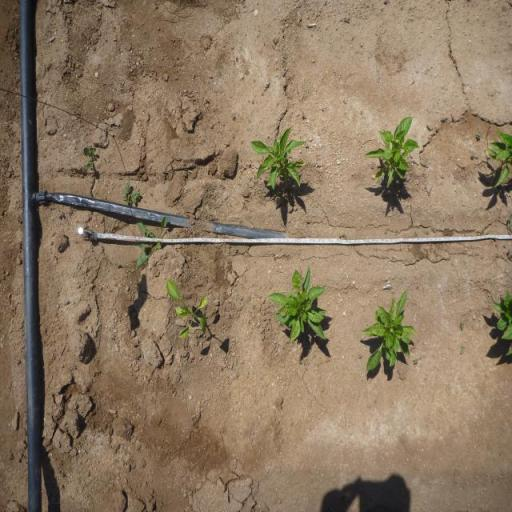plant: (265, 262, 329, 344), (360, 289, 420, 374), (361, 114, 421, 188), (250, 124, 306, 190), (166, 277, 208, 339), (485, 128, 512, 189), (490, 289, 512, 359)
weed: (136, 216, 168, 270), (82, 146, 98, 171), (131, 191, 142, 204), (122, 193, 131, 206), (122, 182, 132, 193), (338, 231, 348, 239), (476, 130, 482, 139), (413, 357, 418, 367), (460, 321, 465, 331), (424, 229, 430, 236), (414, 231, 420, 238), (384, 227, 390, 234), (470, 151, 476, 157), (430, 226, 436, 232), (115, 261, 120, 268), (209, 186, 214, 193), (231, 113, 236, 118), (234, 247, 238, 253), (358, 354, 362, 359), (135, 281, 138, 284), (302, 112, 304, 116)
